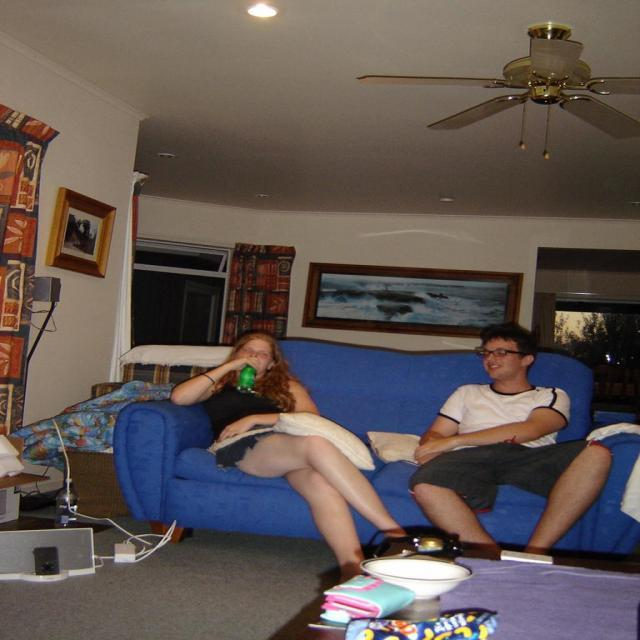bulb_on: (247, 4, 277, 22)
fan_off: (359, 27, 640, 139)
